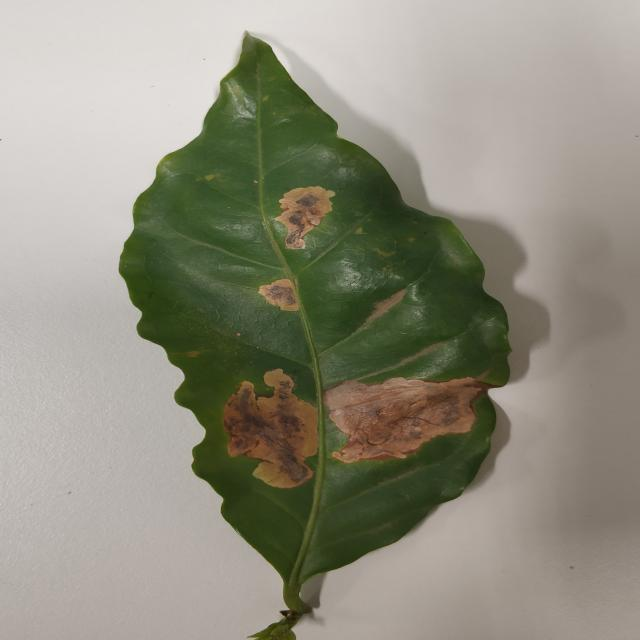Plaga-Minador: (117, 33, 527, 640)
